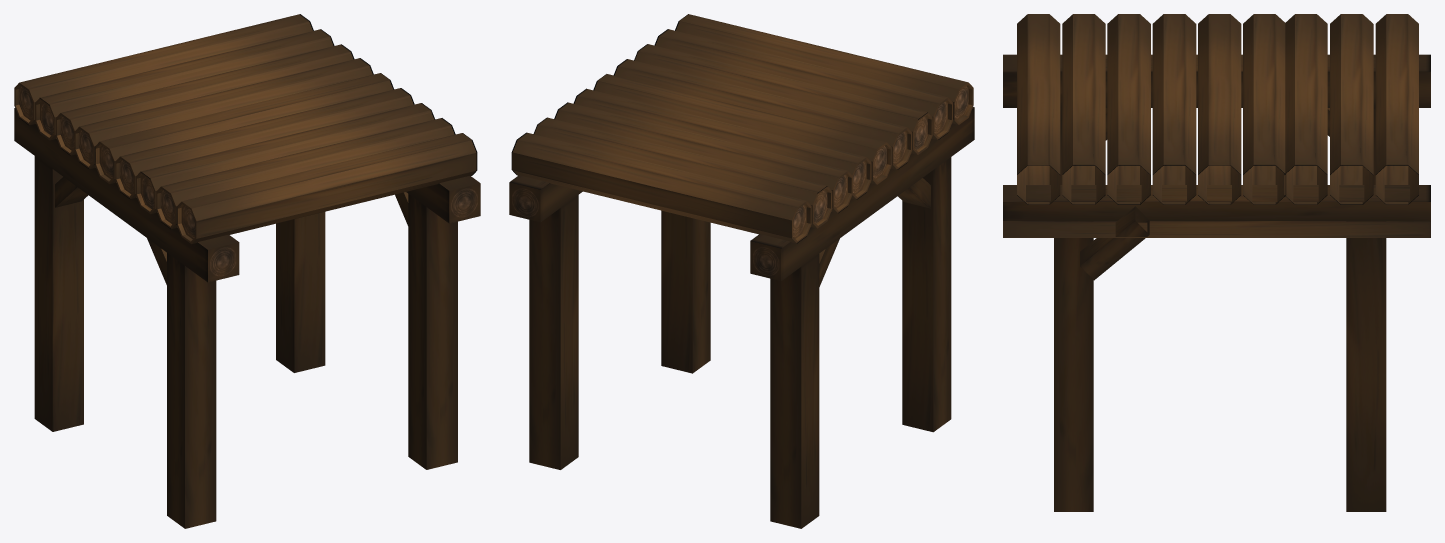
Rendered from front entrance house.fbx.
3 renders of one model, left to right at view 1: azimuth 30°, elevation 25°; view 2: azimuth 150°, elevation 25°; view 3: azimuth 270°, elevation 25°, orthographic. The views are drawn at different scales.
Parts seen in each view (by area): view 1: pCube134, pCube121, pCube8, pCube5, pCube125, pCube6, pCube136, pCube15, pCube135, pCube138, pCube140, pCube139 (+4 smaller); view 2: pCube15, pCube5, pCube125, pCube8, pCube121, pCube6, pCube136, pCube137, pCube134, pCube138, pCube135, pCube140 (+4 smaller); view 3: pCube122, pCube125, pCube121, pCube140, pCube135, pCube136, pCube138, pCube15, pCube134, pCube139, pCube137, pCube142 (+2 smaller).
Part boxes in pixels (bbox=[...]): pCube134: bbox=[176, 133, 477, 244]; pCube121: bbox=[408, 194, 457, 469]; pCube8: bbox=[167, 253, 216, 528]; pCube5: bbox=[34, 156, 83, 431]; pCube125: bbox=[276, 212, 325, 372]; pCube6: bbox=[14, 108, 239, 282]; pCube136: bbox=[35, 29, 334, 140]; pCube15: bbox=[14, 14, 313, 125]; pCube135: bbox=[156, 118, 455, 228]; pCube138: bbox=[135, 103, 435, 214]; pCube140: bbox=[115, 88, 414, 199]; pCube139: bbox=[94, 73, 394, 184]; pCube15: bbox=[511, 132, 811, 243]; pCube5: bbox=[770, 254, 819, 528]; pCube125: bbox=[529, 195, 578, 469]; pCube8: bbox=[902, 157, 951, 432]; pCube121: bbox=[661, 210, 710, 373]; pCube6: bbox=[750, 107, 974, 281]; pCube136: bbox=[533, 117, 832, 228]; pCube137: bbox=[554, 102, 852, 213]; pCube134: bbox=[675, 14, 973, 124]; pCube138: bbox=[634, 44, 932, 154]; pCube135: bbox=[654, 29, 952, 139]; pCube140: bbox=[613, 59, 912, 169]; pCube122: bbox=[1003, 185, 1430, 237]; pCube125: bbox=[1346, 221, 1386, 511]; pCube121: bbox=[1054, 221, 1093, 511]; pCube140: bbox=[1152, 14, 1196, 204]; pCube135: bbox=[1062, 14, 1105, 204]; pCube136: bbox=[1330, 14, 1373, 204]; pCube138: bbox=[1107, 14, 1150, 204]; pCube15: bbox=[1375, 14, 1418, 204]; pCube134: bbox=[1017, 14, 1060, 204]; pCube139: bbox=[1198, 14, 1241, 204]; pCube137: bbox=[1284, 14, 1327, 204]; pCube142: bbox=[1243, 14, 1286, 204].
Bounding box in the file's own units: 3.21 × 3.61 × 3.83.
